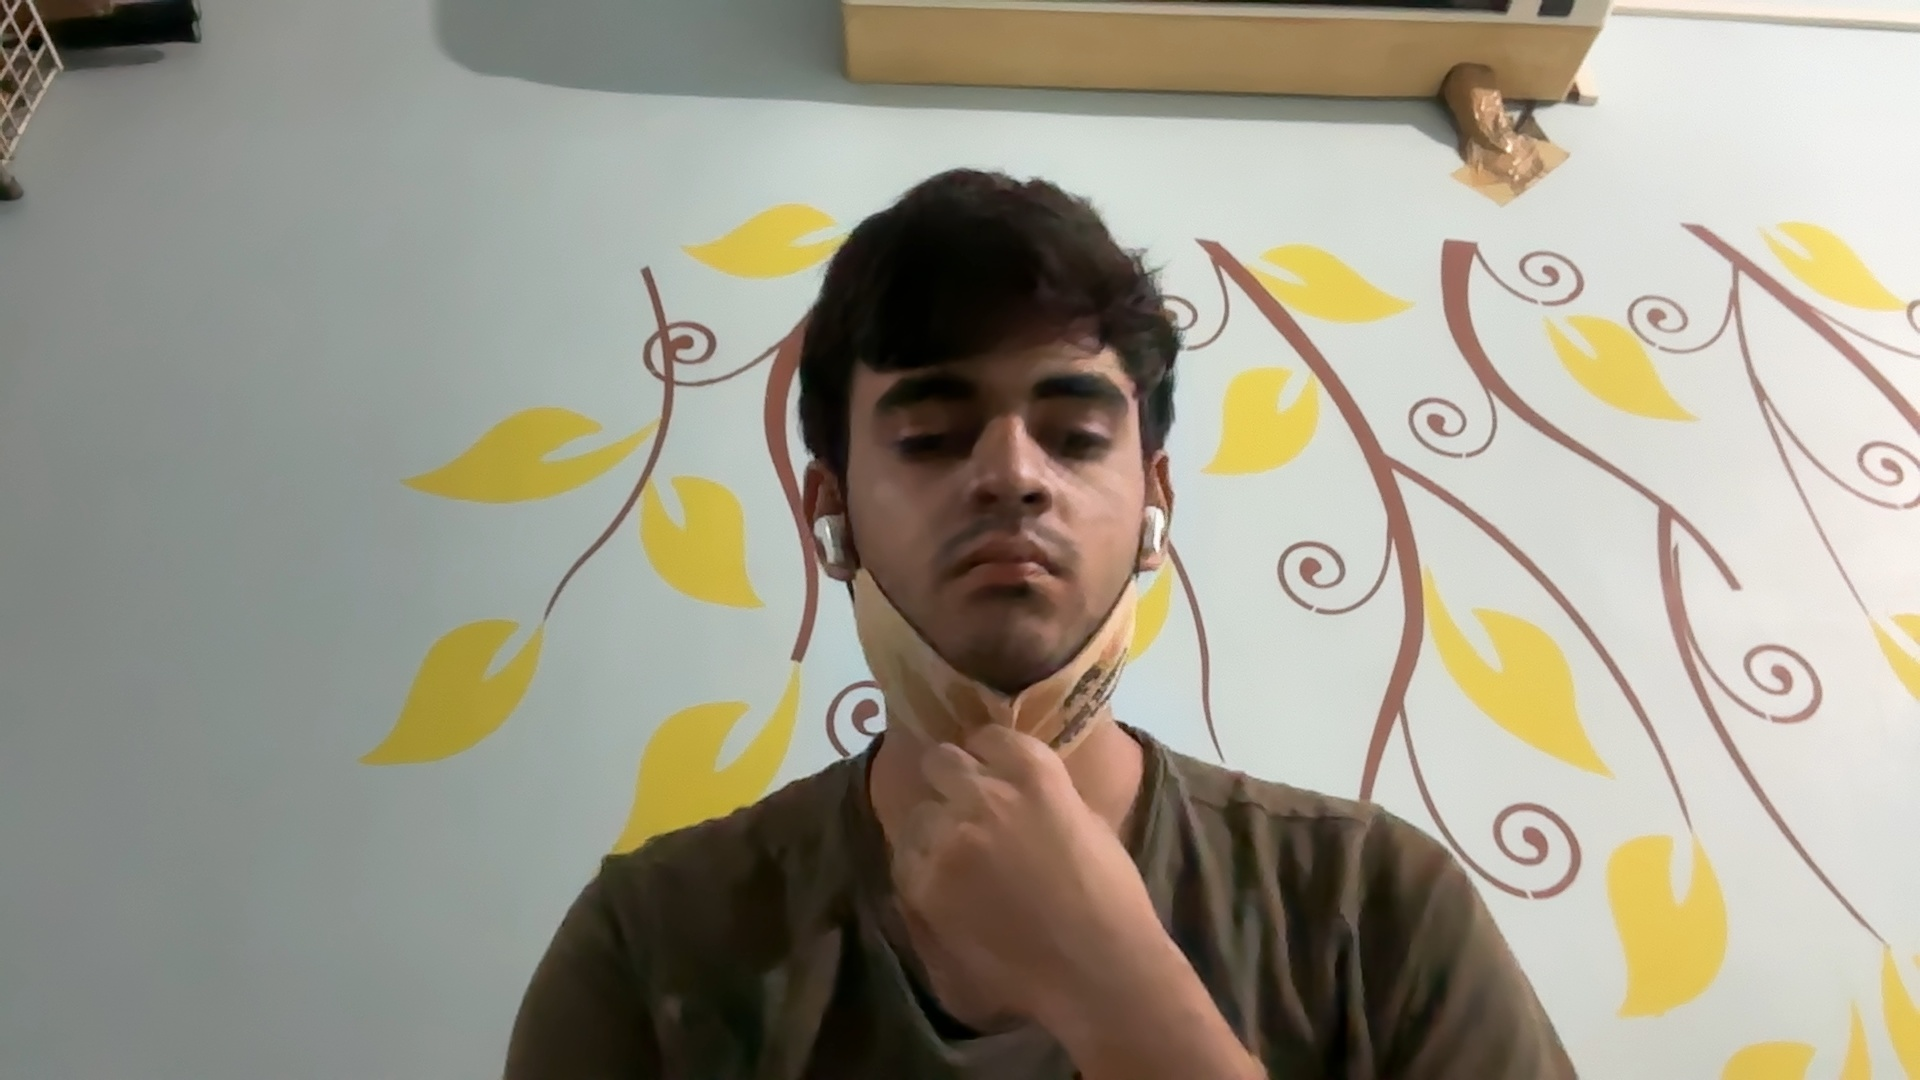No Mask: (839, 472, 1153, 758)
